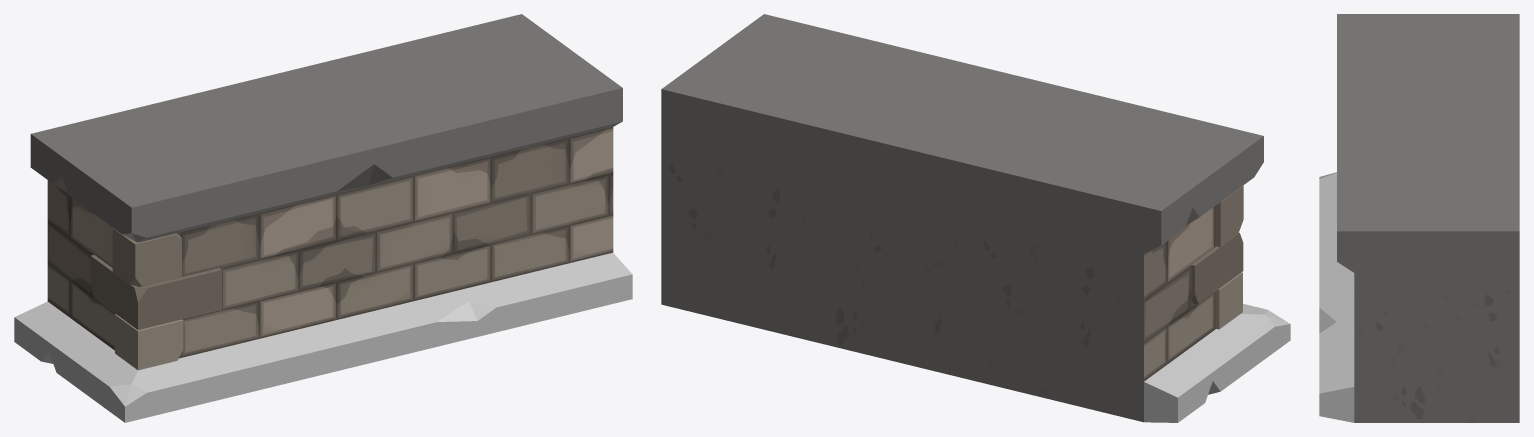
Rendered from SM_Bld_Tunnel_Curved_Cap_01.fbx.
3 views of the same model, side by side, from view 1: azimuth 30°, elevation 25°; view 2: azimuth 150°, elevation 25°; view 3: azimuth 270°, elevation 25° (orthographic). The views are drawn at different scales.
Parts seen in each view (by area): view 1: SM_Bld_Tunnel_Curved_Cap_01; view 2: SM_Bld_Tunnel_Curved_Cap_01; view 3: SM_Bld_Tunnel_Curved_Cap_01.
Boxes of the visible parts, x1,y1,x2,y2 form: SM_Bld_Tunnel_Curved_Cap_01: (14,14,632,422); SM_Bld_Tunnel_Curved_Cap_01: (661,14,1290,422); SM_Bld_Tunnel_Curved_Cap_01: (1319,14,1519,422).
Size of the model in its own units: 401 by 160 by 152.
